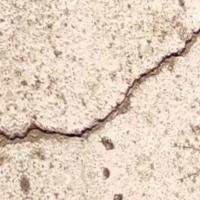crack: (0, 21, 199, 155)
